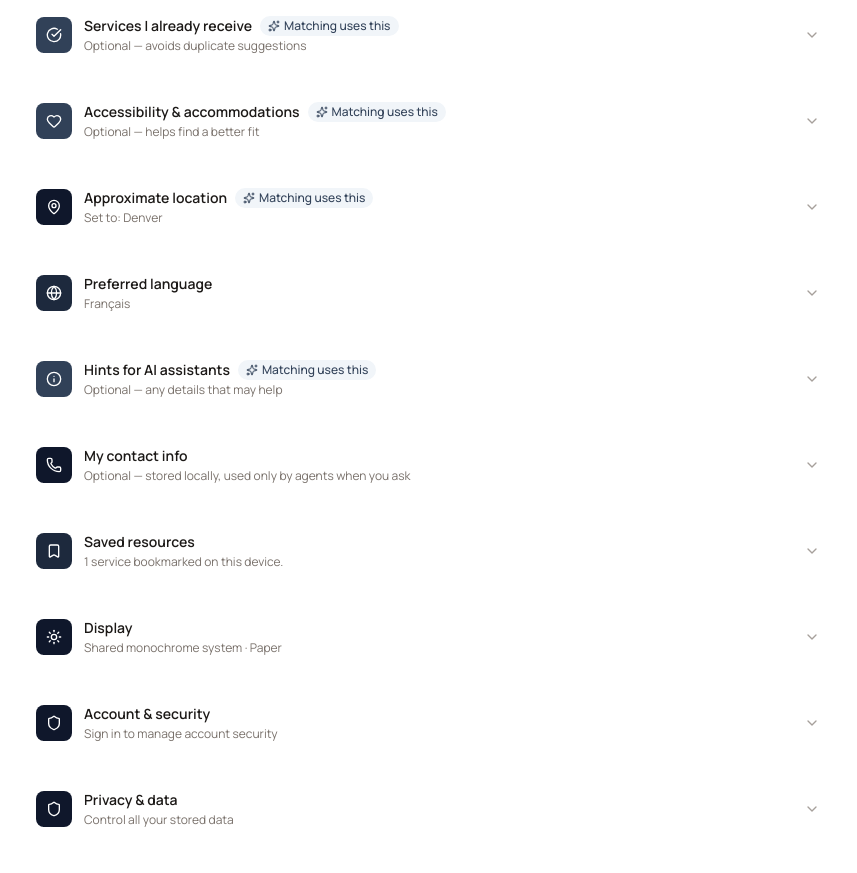
ProfilePageClient › deletes all local data after confirmation and resets UI summary
(page scrolled)
Step 1. Click the button "Privacy & data Control all your stored data" → (54, 809), box [16,774,840,844]
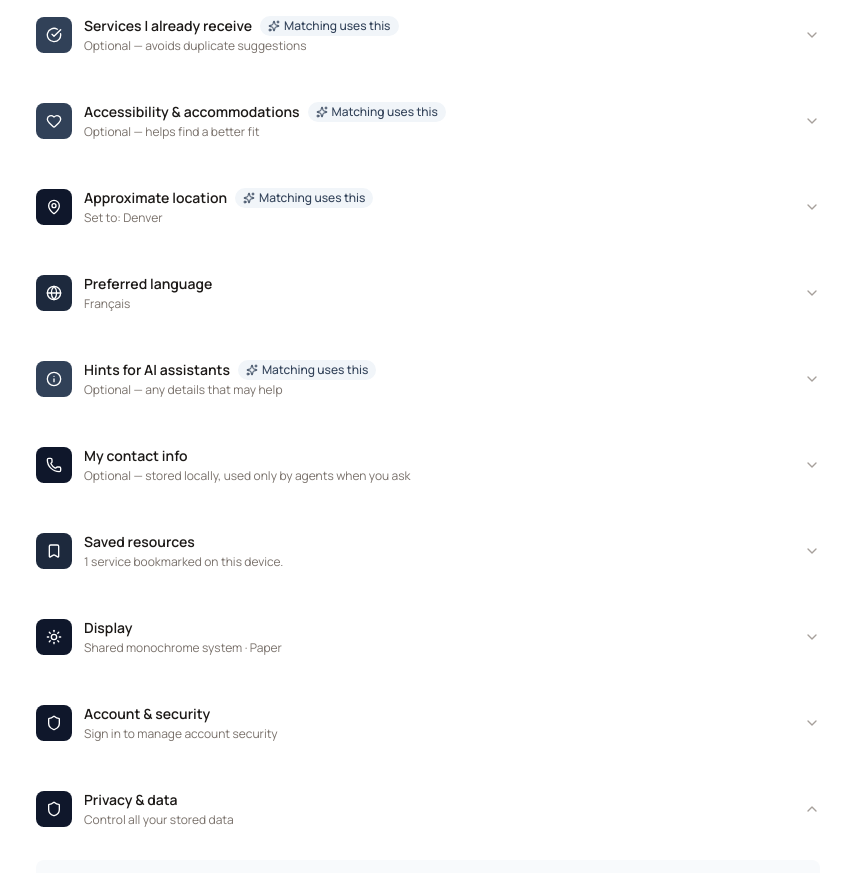
Step 2. Click the button "Saved resources 1 service bookmarked on this device." → (54, 551), box [16,516,840,586]
(page scrolled)
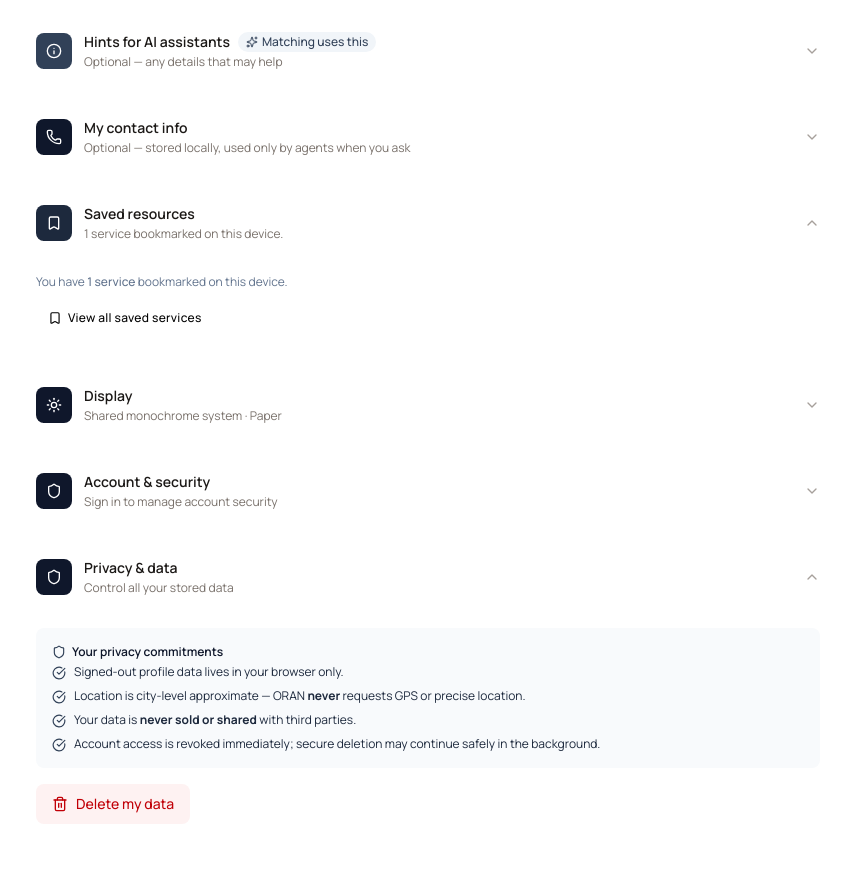
Step 3. Click the button "Delete my data" → (113, 804), box [36,784,190,824]
(page scrolled)
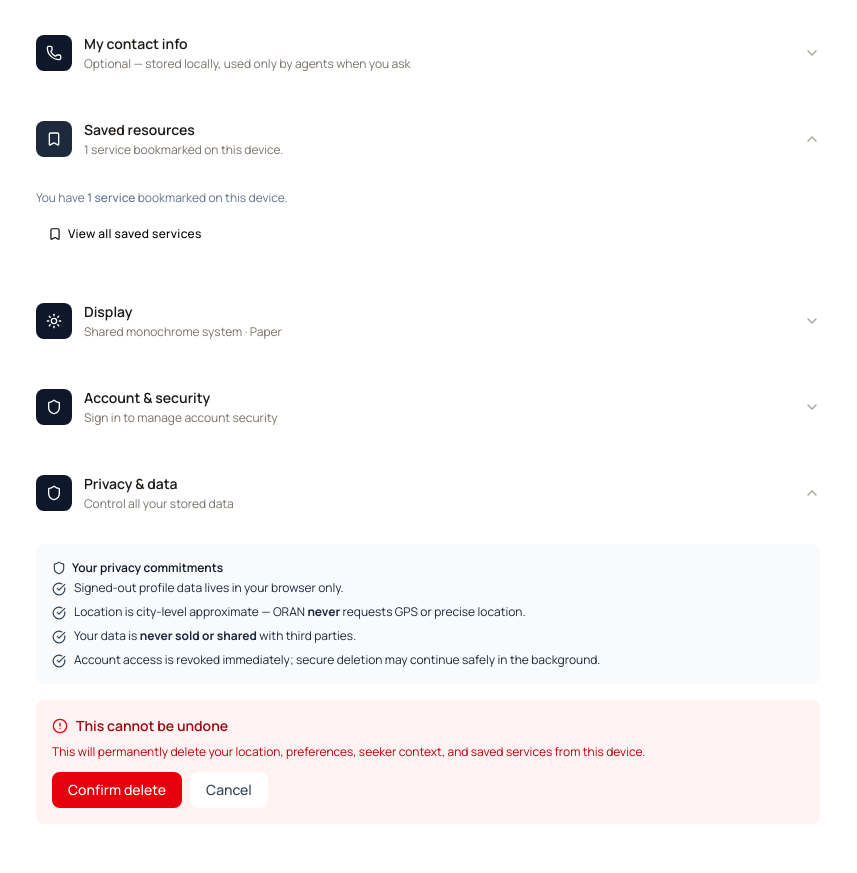
Step 4. Click the button "Confirm delete" → (117, 790), box [52,772,182,808]
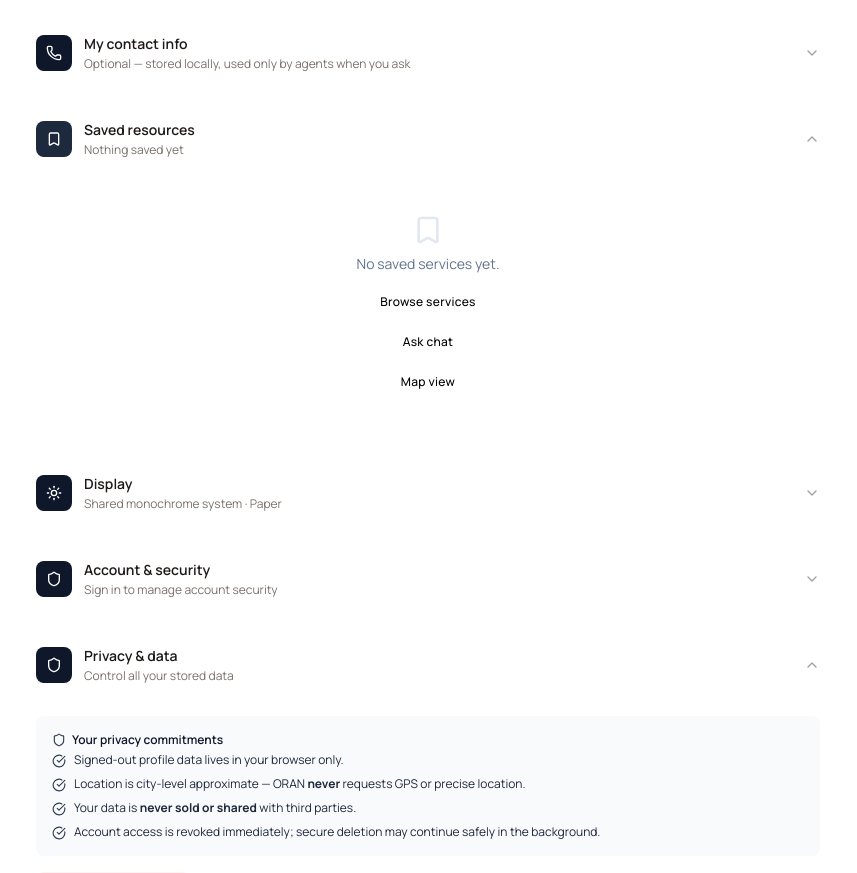
Check: the text "No saved services yet." is shown, box [356,254,499,273]
